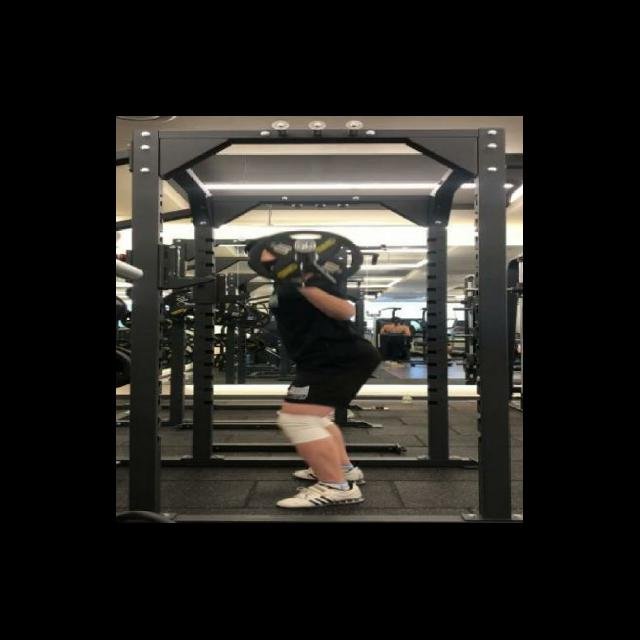barbell: (241, 228, 365, 292)
